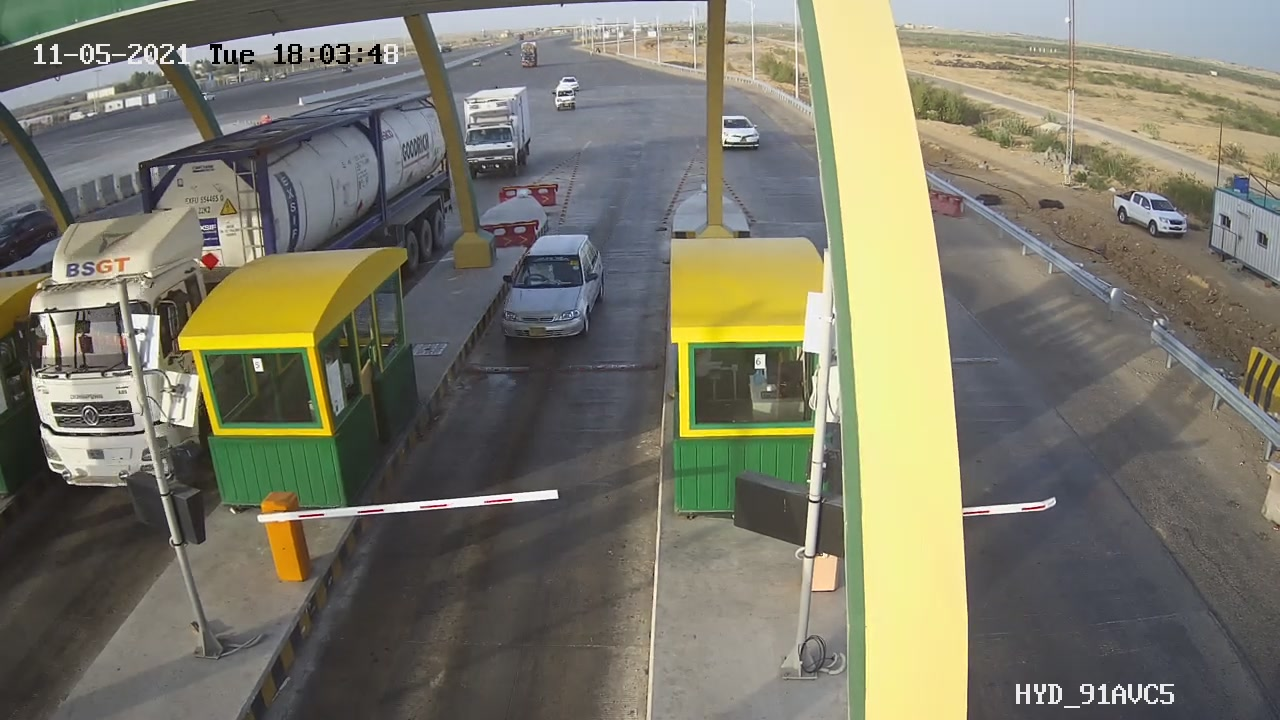F1: (474, 217, 626, 361)
